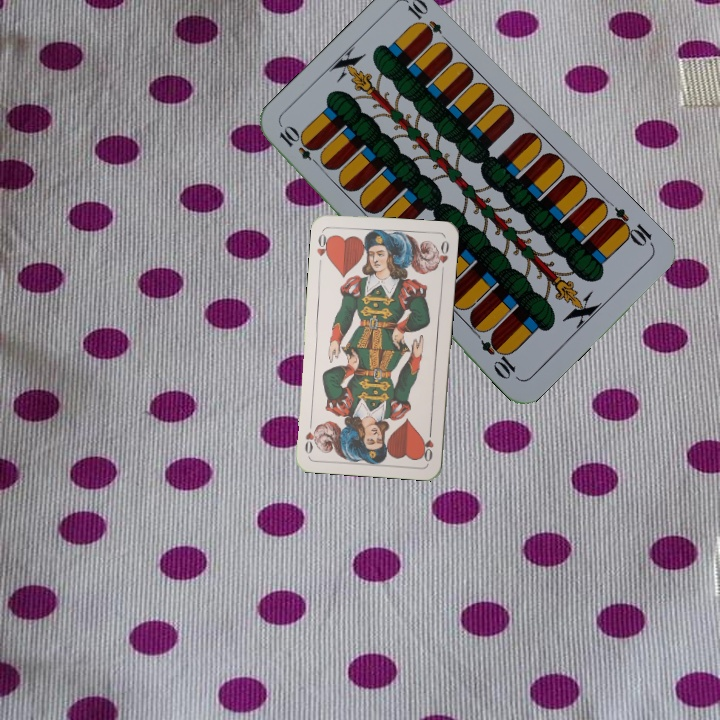E10: (604, 203, 657, 250), (275, 122, 325, 170)
HO: (313, 227, 333, 262), (419, 424, 436, 464)
